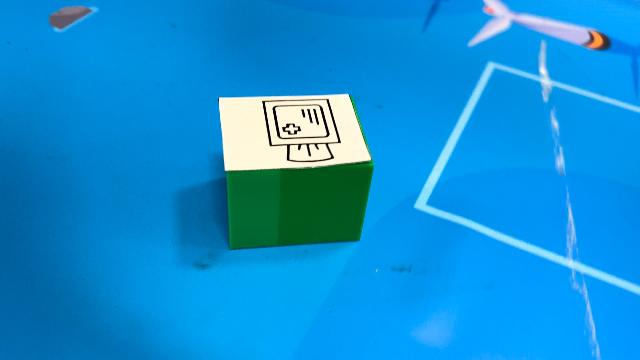napkin: (217, 92, 376, 250)
